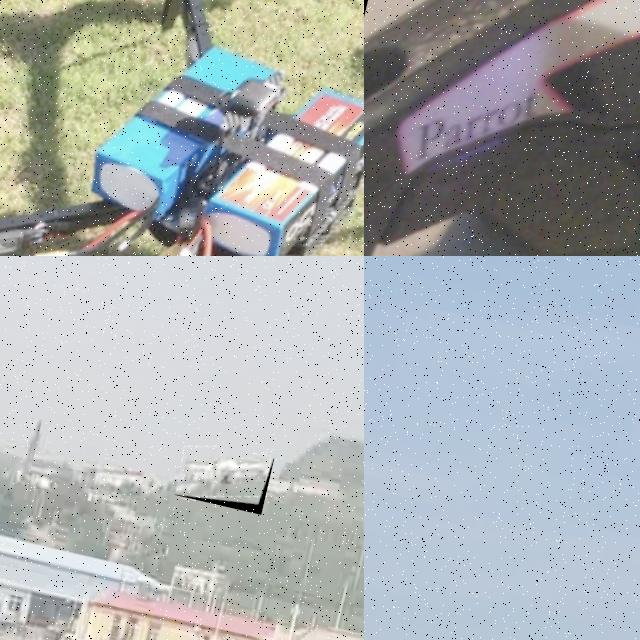0: (174, 438, 274, 514)
drone: (0, 0, 364, 256), (364, 0, 640, 256)
